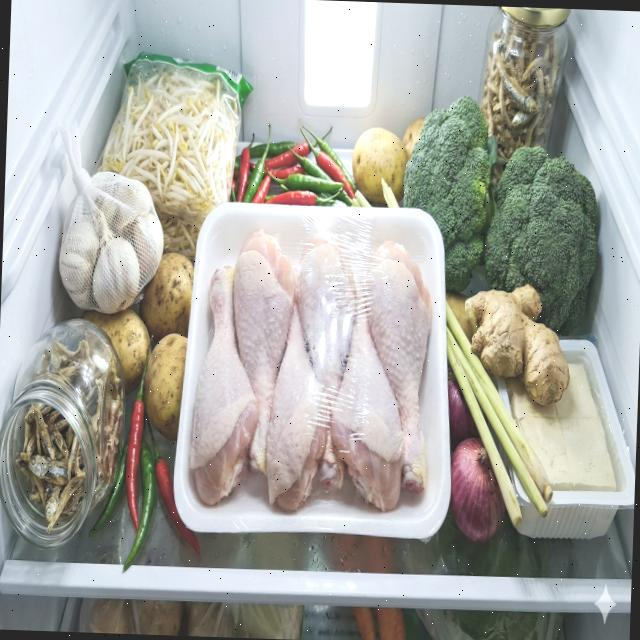anchovies: (13, 330, 127, 534)
bean_sprouts: (92, 65, 240, 262)
brocolli: (398, 90, 602, 338)
chicken: (186, 226, 435, 515)
chili: (87, 332, 208, 574), (230, 121, 358, 207)
garlic: (57, 168, 166, 316)
ginger: (461, 282, 573, 406)
lemongrass: (437, 299, 560, 528)
onion: (442, 368, 509, 544)
potato: (76, 249, 194, 441), (350, 115, 425, 206)
tofu: (504, 359, 620, 492)
